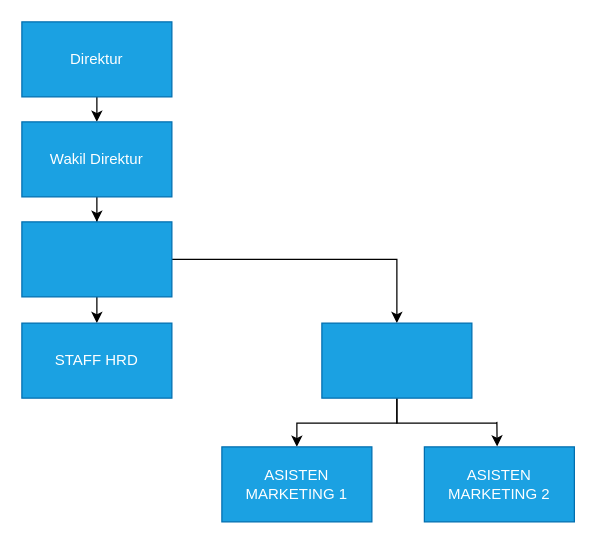
Image size: 596x544. Some labels were removed from this diagram. The shapes that lost their labels are listed below. From the top down, each one's centre as x and y in pixels, then its label:
the point at 96,259: HRD
the point at 396,360: KEPALA MARKETING
